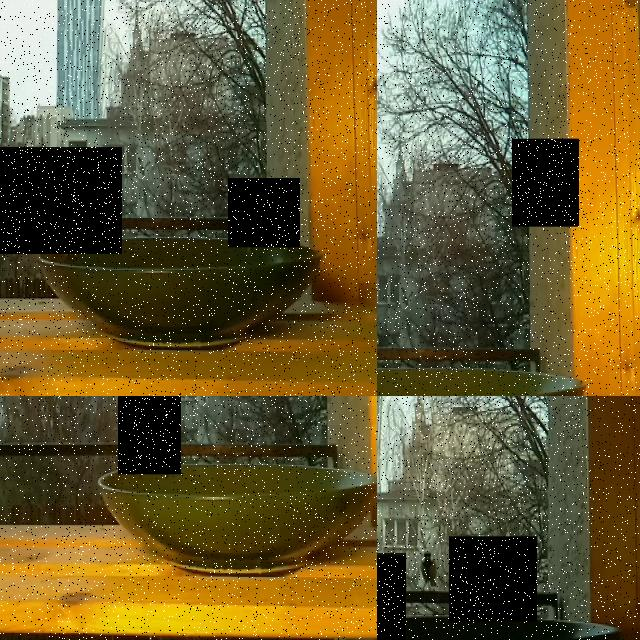Bogatka: (512, 138, 579, 226), (228, 178, 300, 247), (118, 396, 181, 474)
Wrobel: (0, 147, 122, 253), (449, 536, 537, 622), (377, 553, 406, 640)
